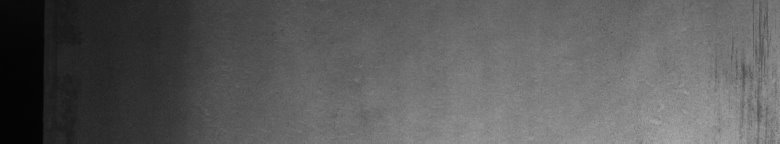ka: (732, 16, 772, 127)
